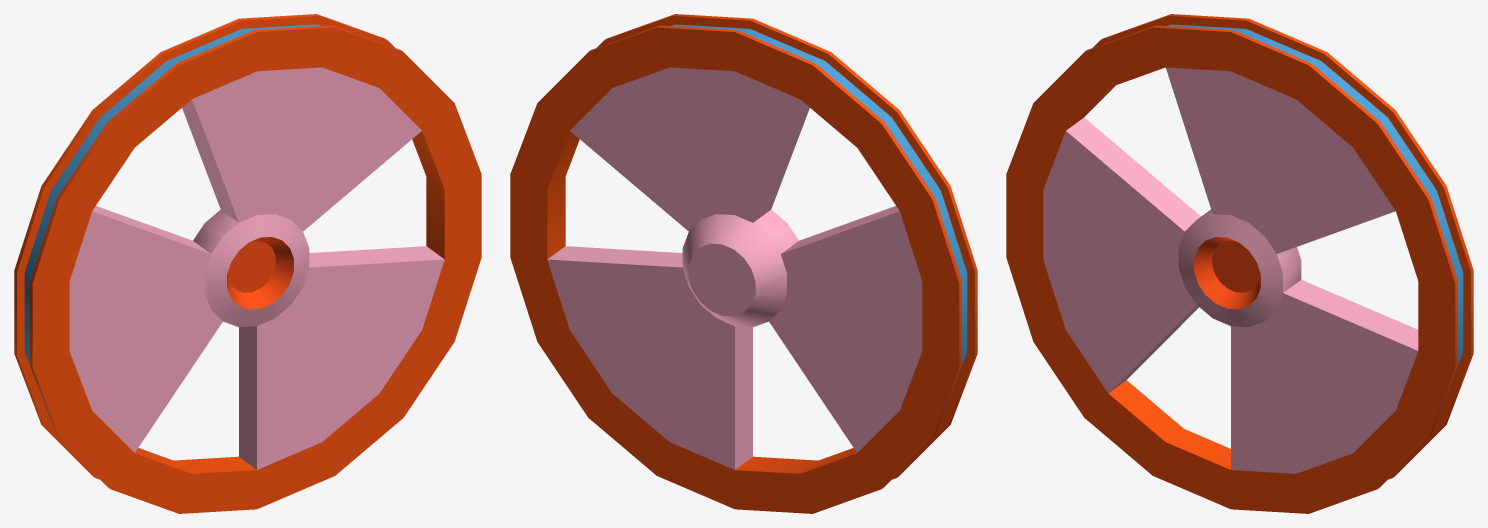
The model's file is M_magnetophone_wheel.fbx.
3 renders of one model, left to right at view 1: azimuth 30°, elevation 25°; view 2: azimuth 150°, elevation 25°; view 3: azimuth 330°, elevation 25°, orthographic.
Parts seen in each view (by area): view 1: Cylinder.002; view 2: Cylinder.002; view 3: Cylinder.002.
Boxes of the visible parts, box(x1,y1,x2,y2) form: Cylinder.002: box(14, 14, 481, 513); Cylinder.002: box(510, 14, 977, 513); Cylinder.002: box(1006, 14, 1473, 513).
Bounding box in the file's own units: 184 × 187 × 24.4.
